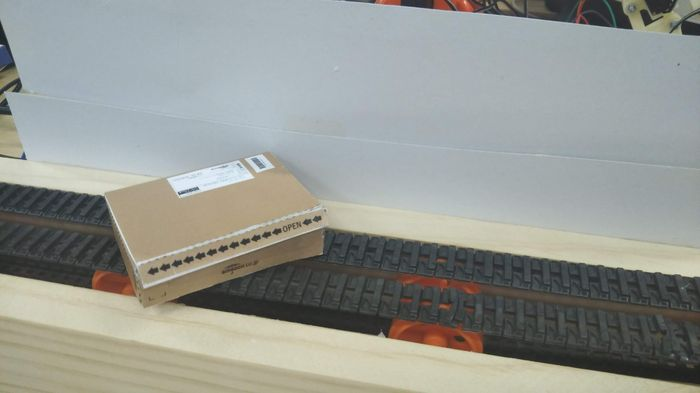box2: (102, 148, 329, 306)
